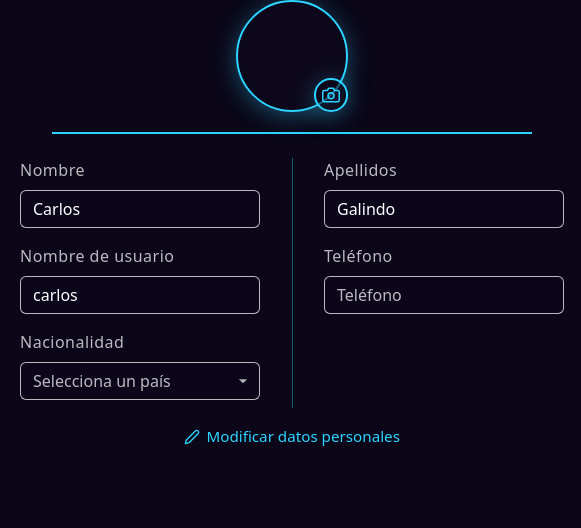
Test: PerfilPanel › muestra "nombre válido" en verde cuando el username está disponible
Expected: the field showing "Carlos" is shown, [20, 190, 260, 228]
Click the button "Modificar datos personales" at (292, 436), box [166, 416, 418, 457]
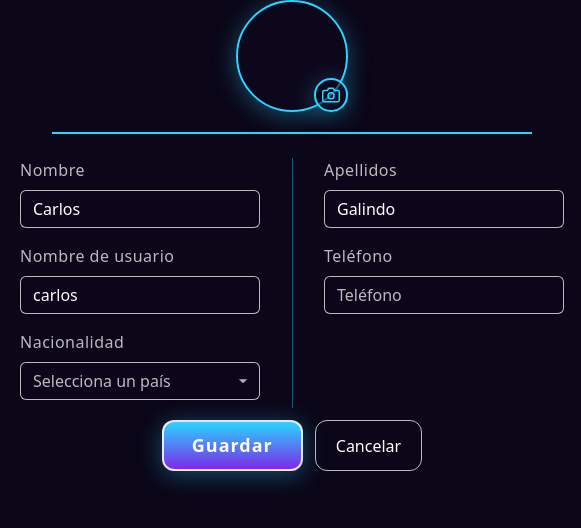
Replace the text in the field labelled "Nombre de usuario" with "carlosnuevo" at (140, 295), box [20, 276, 260, 314]
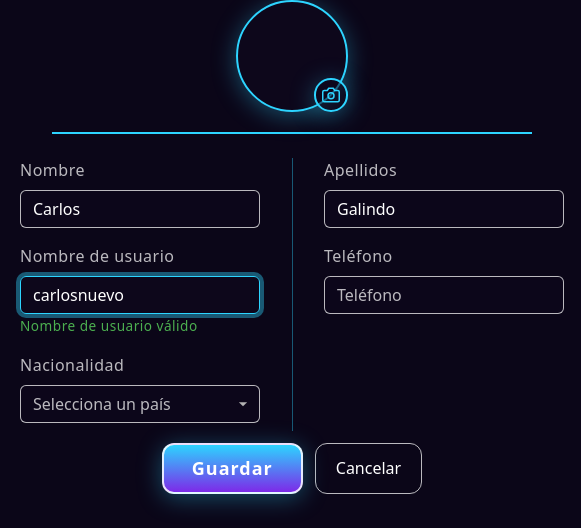
Now the button "Guardar" is enabled, box [162, 443, 303, 494]
Now the text "Nombre de usuario válido" is shown, box [20, 316, 198, 335]
